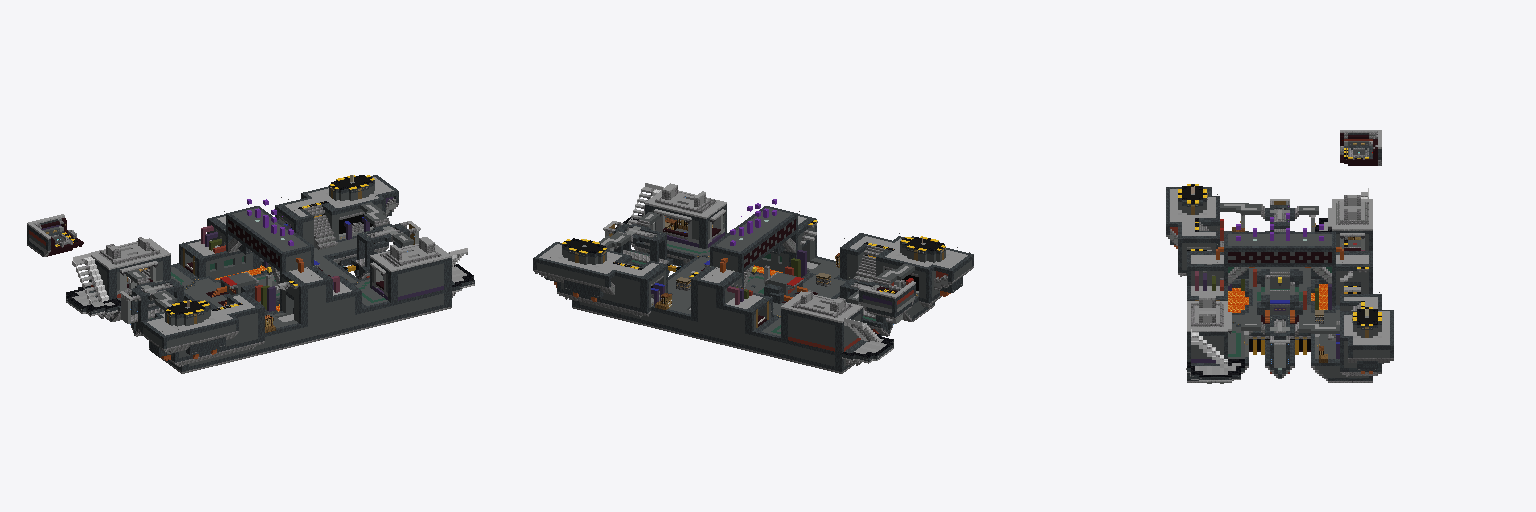
The picture shows the model from 3 angles: view 1: azimuth 30°, elevation 25°; view 2: azimuth 150°, elevation 25°; view 3: azimuth 270°, elevation 25°; orthographic projection.
Size of the model in its own units: 99.12 by 30 by 55.
73 materials, 22 textured.